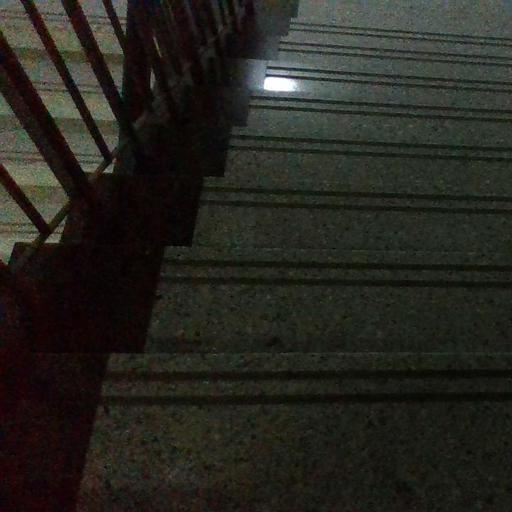Stairs: (82, 0, 512, 512)
